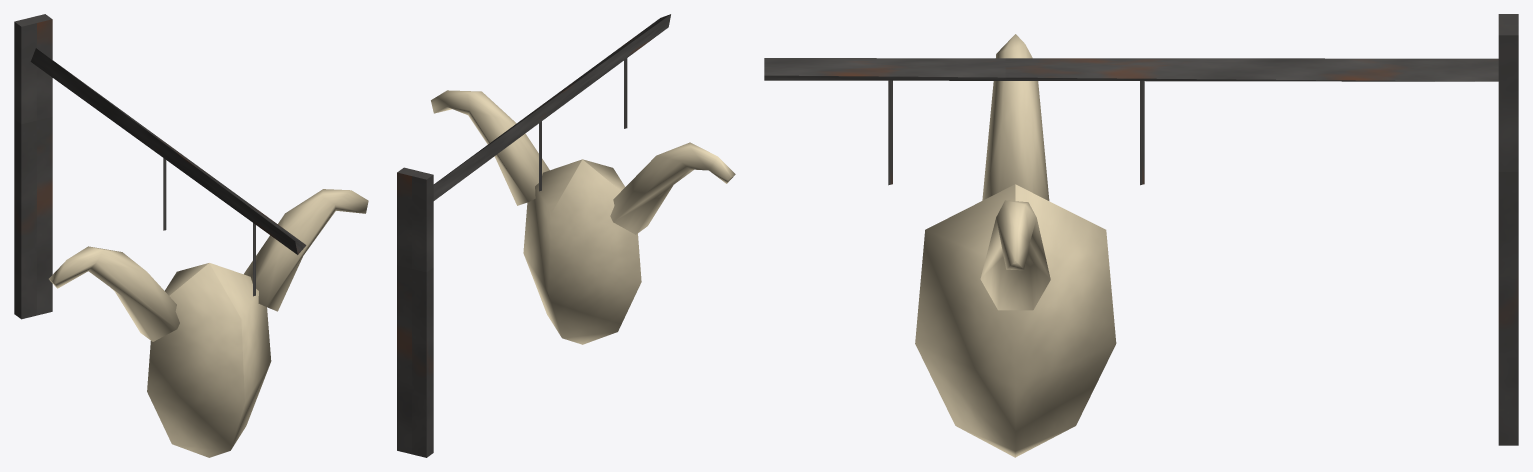
Rendered from Sign_Tavern_Skull_1_LOD2.gltf.
3 renders of one model, left to right at view 1: azimuth 30°, elevation 25°; view 2: azimuth 150°, elevation 25°; view 3: azimuth 270°, elevation 25°, orthographic. The views are drawn at different scales.
Parts seen in each view (by area): view 1: Sign_Tavern_Skull_1_LOD2; view 2: Sign_Tavern_Skull_1_LOD2; view 3: Sign_Tavern_Skull_1_LOD2.
Part boxes in pixels (<box>): Sign_Tavern_Skull_1_LOD2: <box>14,14,368,457</box>; Sign_Tavern_Skull_1_LOD2: <box>397,14,735,457</box>; Sign_Tavern_Skull_1_LOD2: <box>764,14,1518,457</box>.
Size of the model in its own units: 1.02 by 0.95 by 1.5.
Materials: 2 (2 with a texture image).
